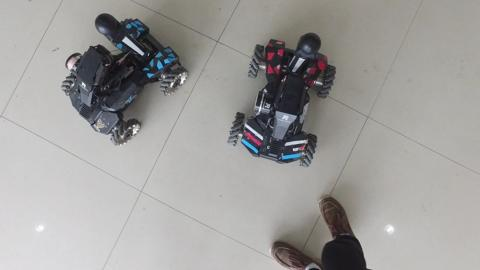chariot: (60, 11, 192, 152), (225, 30, 344, 174)
